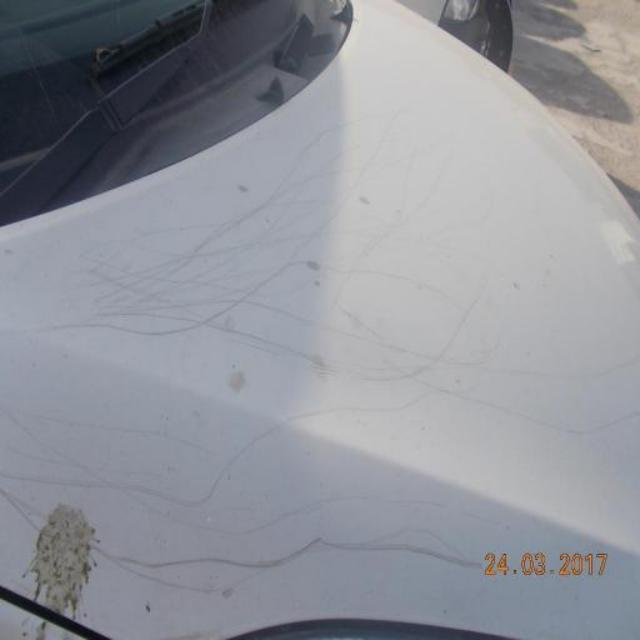scratch: (28, 94, 483, 400), (3, 394, 485, 590)
